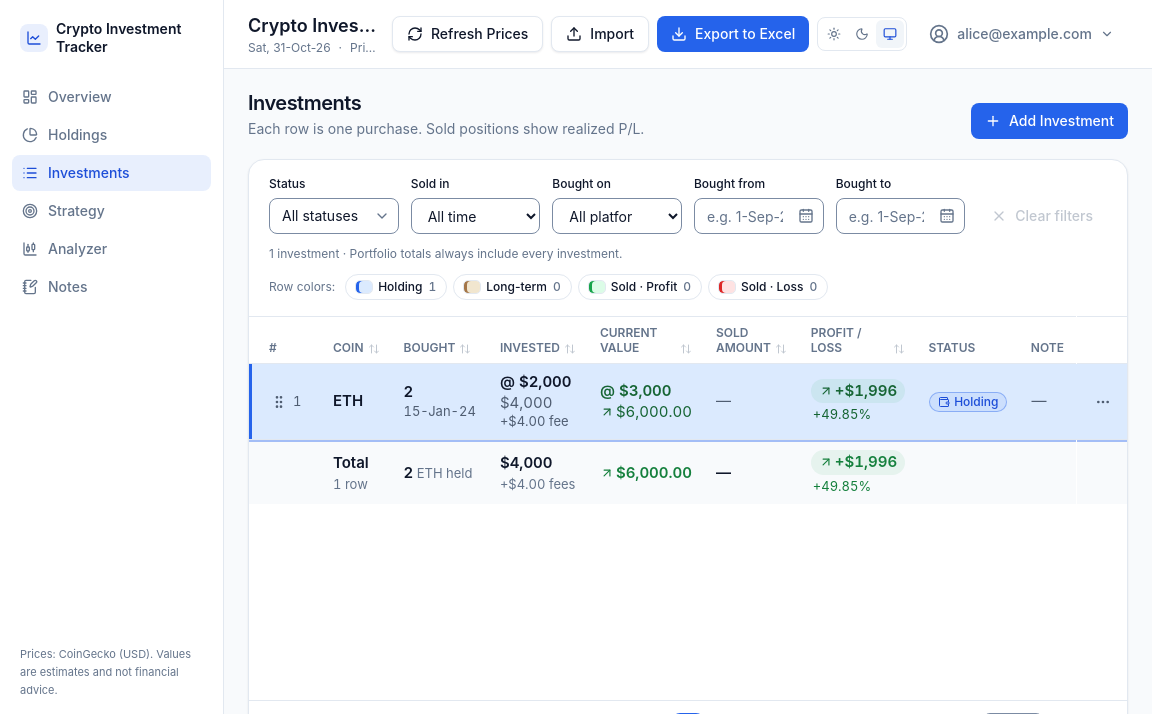
Dashboard › marks a position as sold and shows realized P/L without double counting
The width and height of the screenshot is (1152, 714).
Click the button named "Actions: Ethereum" at point(1103, 402), box [1089,388,1117,416]
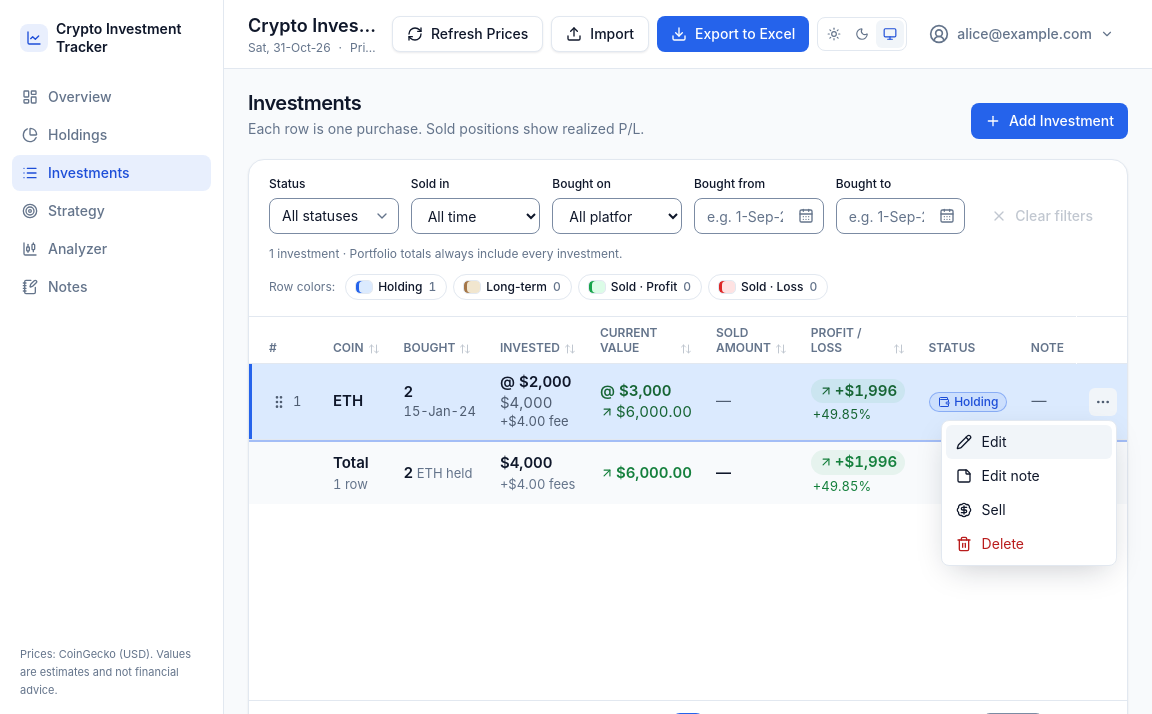
Click the menu item "Sell" at point(1029, 510), box [946,493,1112,527]
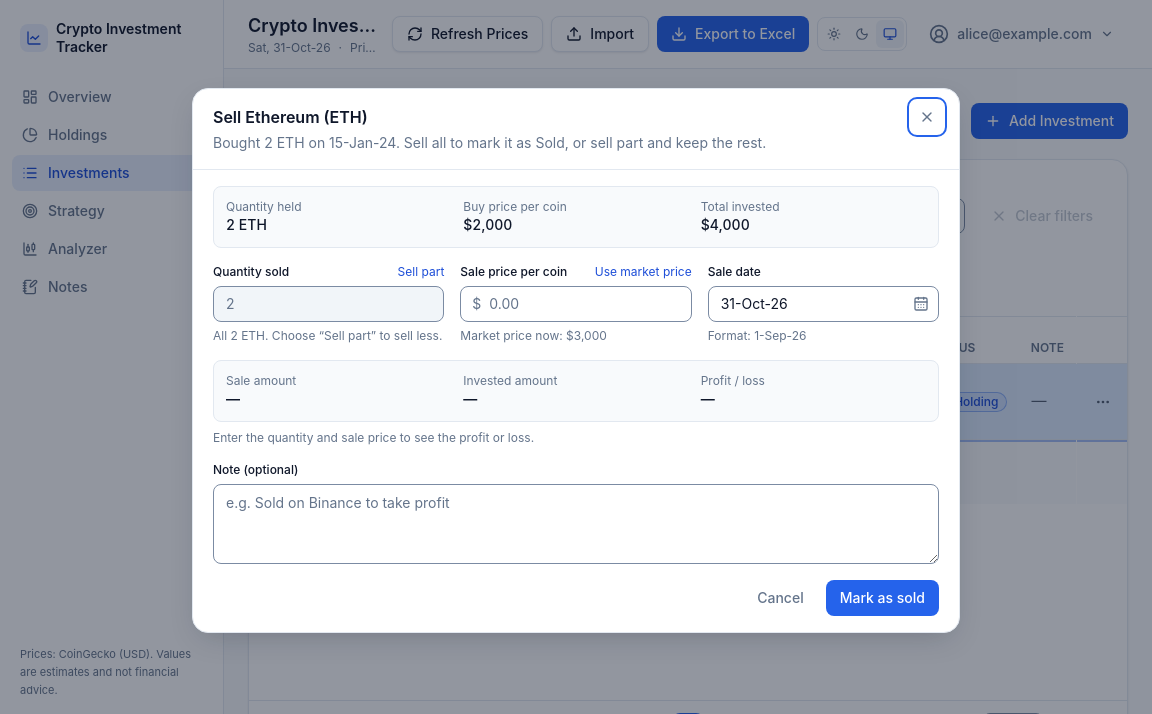
Now the field labelled "Quantity sold" holds "2", box [213,286,444,322]
Type "2500" into the field labelled "Sale price per coin" at point(576, 304), box [460,286,692,322]
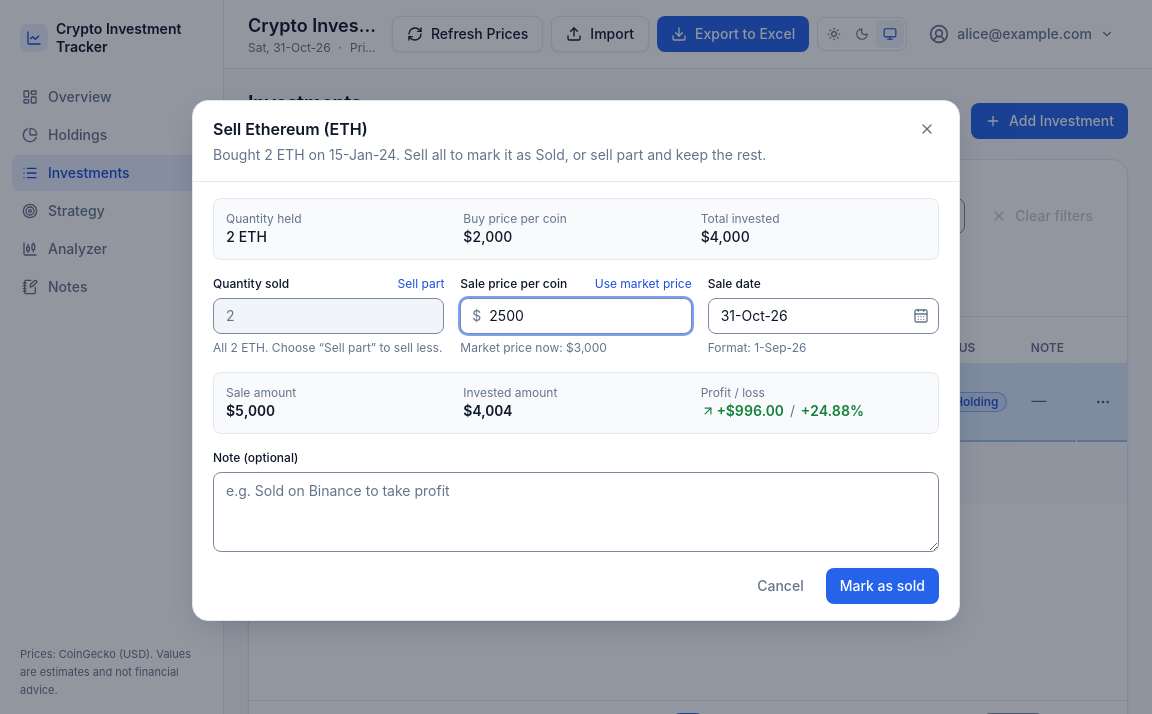
Now the element with test id "realized-preview" shows "+$996.00", box [717,402,784,418]
Click the button "Mark as sold" at point(882, 586), box [826,568,939,604]
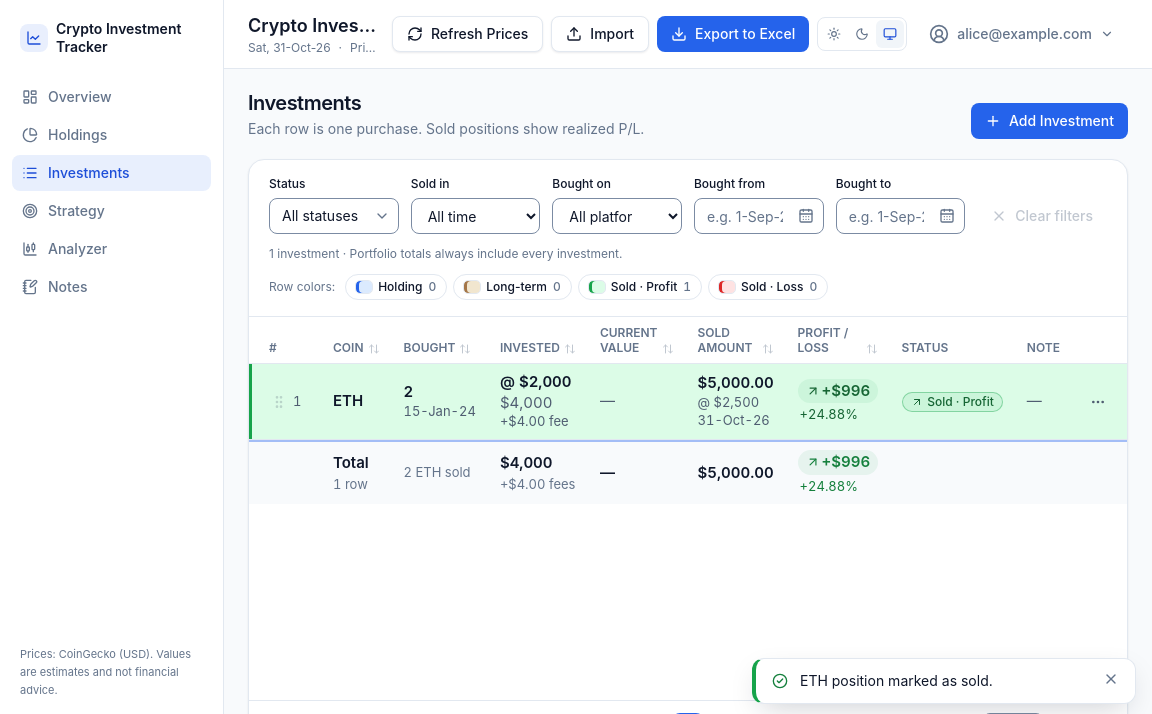
Now the dialog is gone
Now the text "Sold · Profit" is shown, box [902,392,1003,412]
Now the text "+$996" in the row of "$2,000" is shown, box [822,381,870,400]
Click the link "Overview" at point(67, 96), box [22,88,112,105]
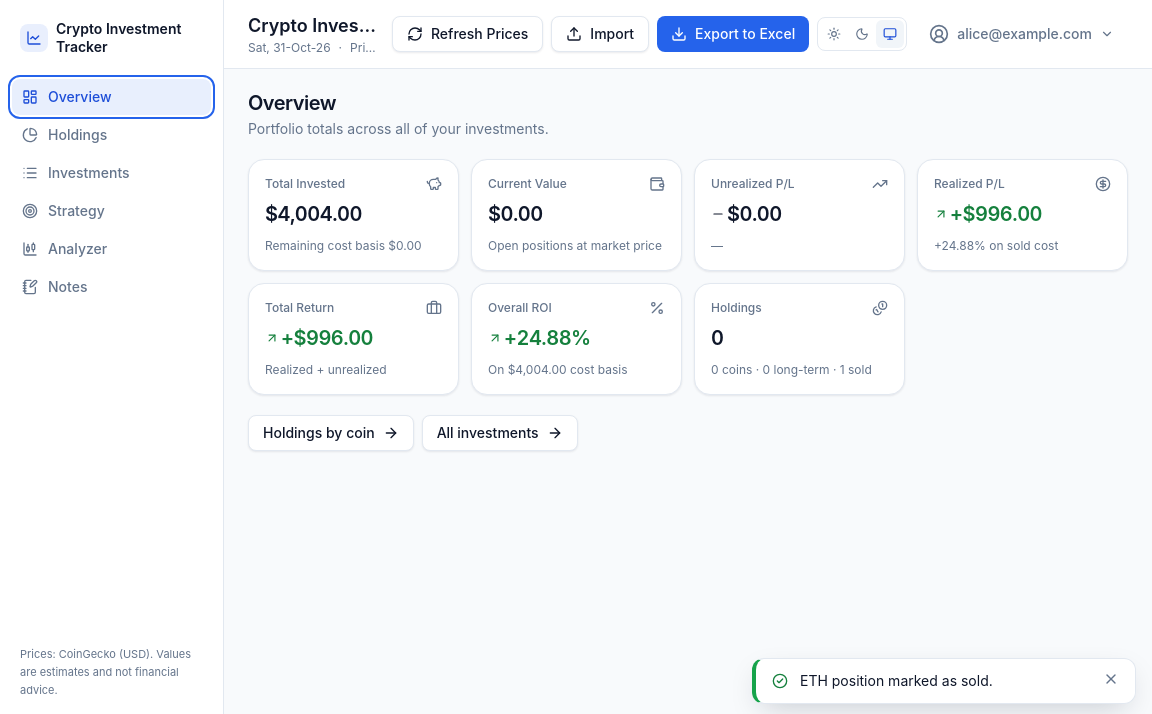
Now the heading "Overview" is shown, box [248,91,336,115]
Now the element with test id "card-realized" shows "+$996.00", box [950,202,1042,226]
Now the element with test id "card-current-value" shows "$0.00", box [488,202,543,226]
